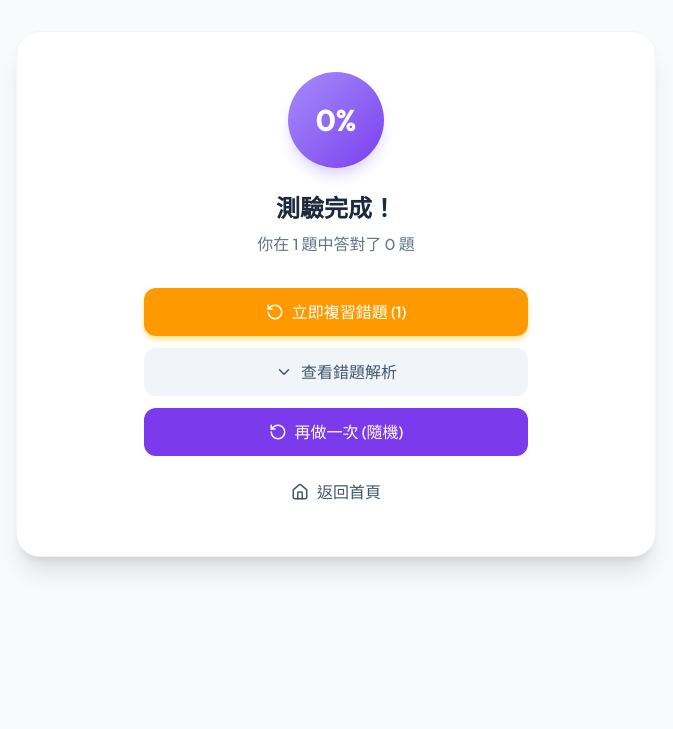
it: Wrong Answer Comparison & Accessibility (QuizResult) › 多選題四態集合運算：選對(TP)、錯選(FP)、漏選(FN)、中立(TN) 正確渲染並附帶語義標籤
The width and height of the screenshot is (673, 729).
Step 1. Click the button "查看錯題解析" → (336, 372), box left=144, top=348, right=528, bottom=396
(page scrolled)
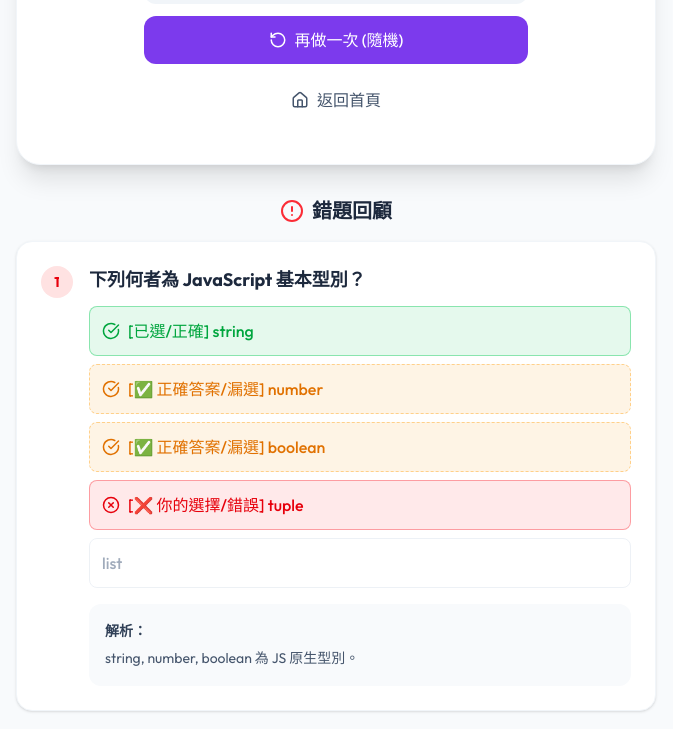
Check: the text "[已選/正確] string" is shown, box left=128, top=319, right=254, bottom=343
Check: the text "[❌ 你的選擇/錯誤] tuple" is shown, box left=128, top=493, right=304, bottom=517
Check: the text "[✅ 正確答案/漏選] number" is shown, box left=128, top=377, right=323, bottom=401
